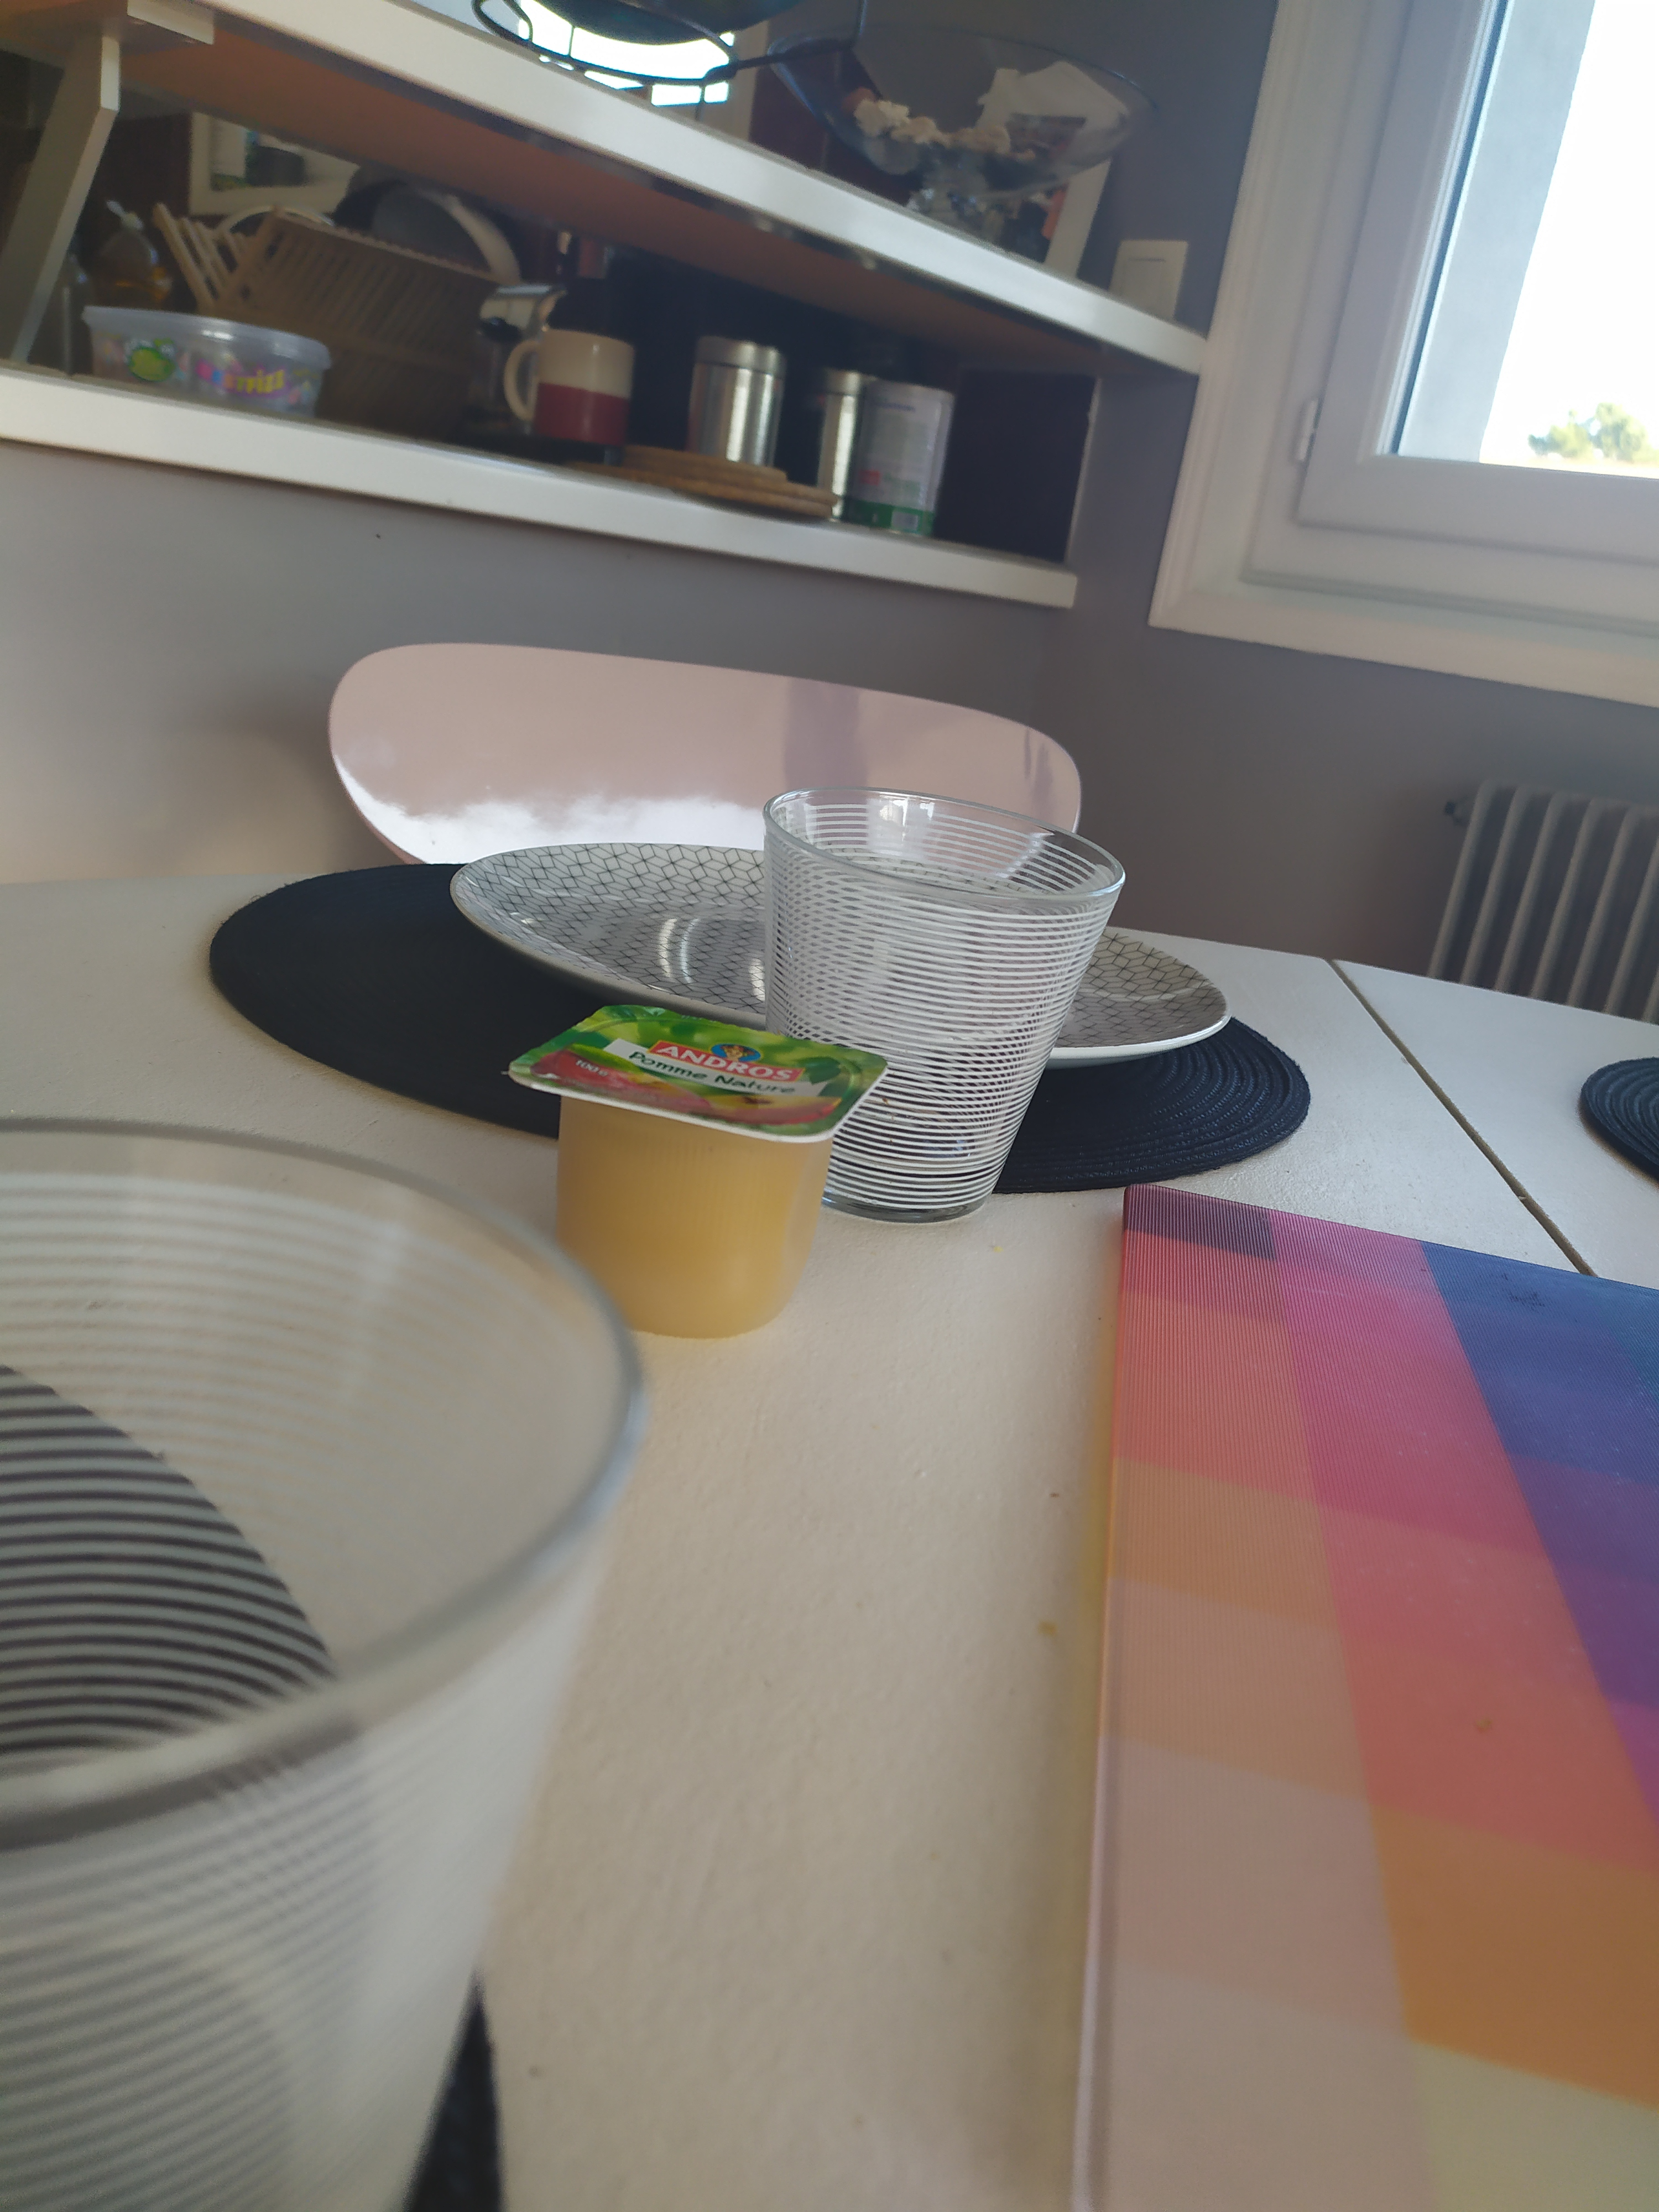compote: (519, 996, 887, 1359)
